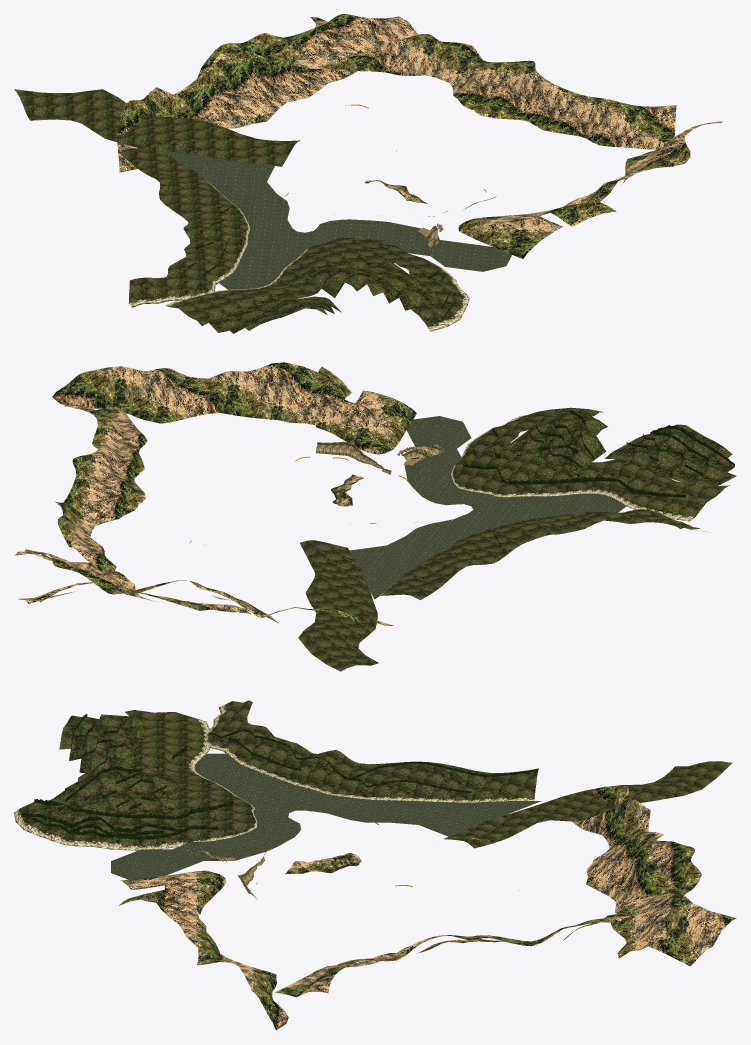
The model's file is track-EU_C4_V1_env.glb.
The picture shows the model from 3 angles, top to bottom: view 1: azimuth 30°, elevation 25°; view 2: azimuth 150°, elevation 25°; view 3: azimuth 270°, elevation 25°; orthographic projection. The views are drawn at different scales.
Parts seen in each view (by area): view 1: EU_C4_V1_env; view 2: EU_C4_V1_env; view 3: EU_C4_V1_env.
Boxes of the visible parts, x1=… form: EU_C4_V1_env: x1=14, y1=14, x2=722, y2=333; EU_C4_V1_env: x1=14, y1=362, x2=736, y2=671; EU_C4_V1_env: x1=14, y1=700, x2=736, y2=1030.
Size of the model in its own units: 4109 by 336 by 3868.
Materials: 11 (10 with a texture image).
